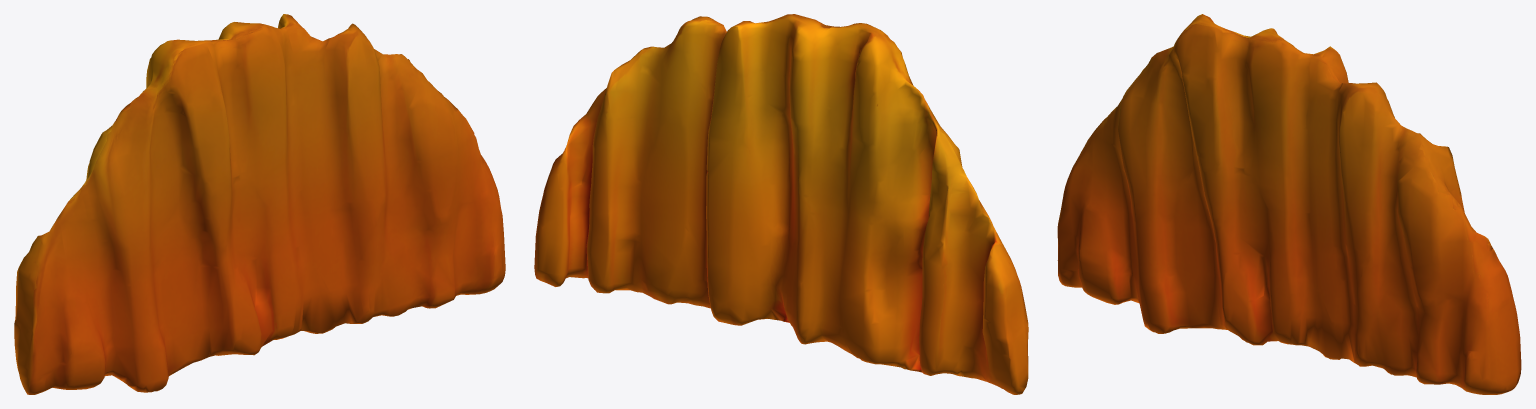
File: carrot_2side.glb
3 renders of one model, left to right at view 1: azimuth 30°, elevation 25°; view 2: azimuth 150°, elevation 25°; view 3: azimuth 330°, elevation 25°, orthographic. The views are drawn at different scales.
Parts seen in each view (by area): view 1: carrot_2side_3k_low; view 2: carrot_2side_3k_low; view 3: carrot_2side_3k_low.
Boxes of the visible parts, bbox=[...] form: carrot_2side_3k_low: bbox=[14, 14, 505, 394]; carrot_2side_3k_low: bbox=[534, 14, 1028, 394]; carrot_2side_3k_low: bbox=[1057, 14, 1521, 394].
Size of the model in its own units: 1.01 by 0.6758 by 0.1361.
1 material, 1 textured.
